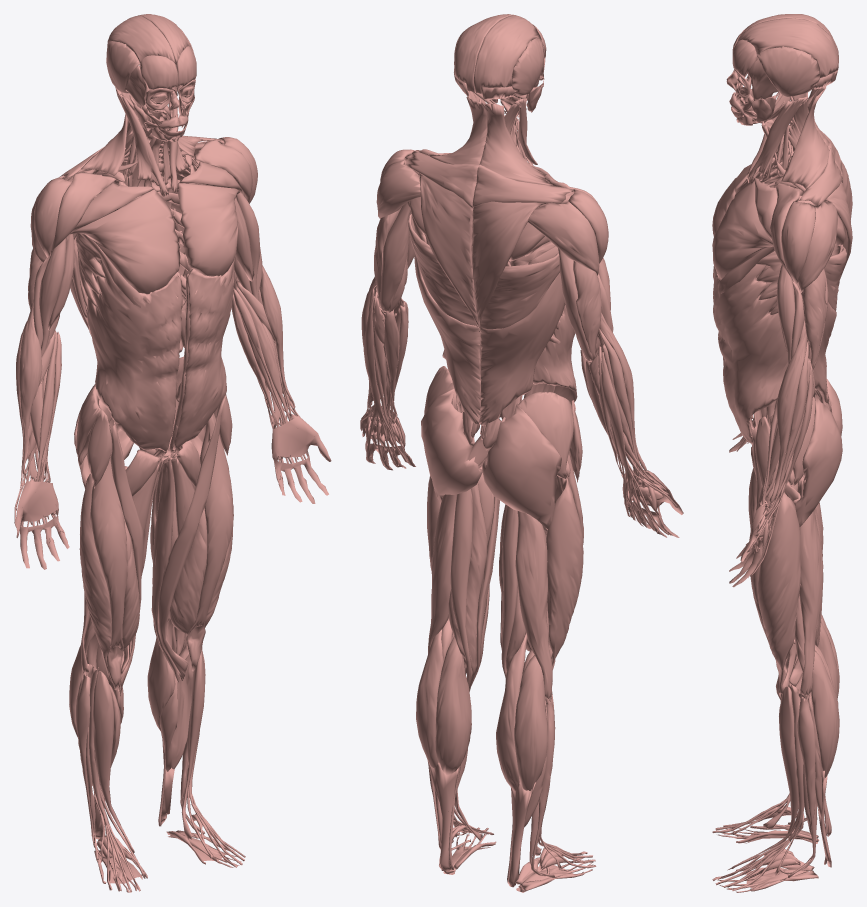
Rendered from muscles.glb.
3 views of the same model, side by side, from view 1: azimuth 30°, elevation 25°; view 2: azimuth 150°, elevation 25°; view 3: azimuth 270°, elevation 25° (orthographic). The views are drawn at different scales.
Visible parts, largest first — view 1: body_base, quads, obliques, chest, forearms, calves, adductors, shoulders, biceps, abductors, neck, traps (+4 smaller); view 2: body_base, traps, lats, hamstrings, calves, forearms, glutes, shoulders, triceps, quads, abductors, obliques (+4 smaller); view 3: body_base, obliques, quads, chest, forearms, shoulders, traps, hamstrings, calves, glutes, neck, biceps (+4 smaller).
Part boxes in pixels (bbox=[...]): body_base: bbox=[15, 14, 331, 892]; quads: bbox=[79, 395, 233, 695]; obliques: bbox=[76, 150, 234, 451]; chest: bbox=[70, 161, 243, 307]; forearms: bbox=[14, 265, 317, 543]; calves: bbox=[69, 619, 193, 836]; adductors: bbox=[120, 440, 200, 695]; shoulders: bbox=[30, 137, 257, 262]; biceps: bbox=[33, 167, 262, 355]; abductors: bbox=[76, 356, 232, 488]; neck: bbox=[115, 87, 188, 197]; traps: bbox=[59, 87, 223, 195]; body_base: bbox=[361, 14, 683, 892]; traps: bbox=[405, 97, 573, 328]; lats: bbox=[408, 214, 565, 425]; hamstrings: bbox=[428, 482, 552, 699]; calves: bbox=[416, 618, 547, 882]; forearms: bbox=[360, 276, 678, 535]; glutes: bbox=[421, 388, 561, 529]; shoulders: bbox=[376, 149, 608, 275]; triceps: bbox=[373, 203, 601, 394]; quads: bbox=[427, 401, 583, 687]; abductors: bbox=[424, 366, 582, 482]; obliques: bbox=[424, 234, 577, 417]; body_base: bbox=[712, 14, 838, 892]; obliques: bbox=[713, 148, 840, 443]; quads: bbox=[748, 400, 800, 699]; chest: bbox=[712, 154, 782, 293]; forearms: bbox=[745, 317, 813, 577]; shoulders: bbox=[770, 125, 845, 292]; traps: bbox=[781, 86, 852, 276]; hamstrings: bbox=[789, 475, 823, 696]; calves: bbox=[793, 614, 839, 864]; glutes: bbox=[795, 379, 842, 526]; neck: bbox=[746, 92, 808, 182]; biceps: bbox=[776, 157, 804, 364].
Bounding box in the file's own units: 0.7095 × 1.8 × 0.2713.
